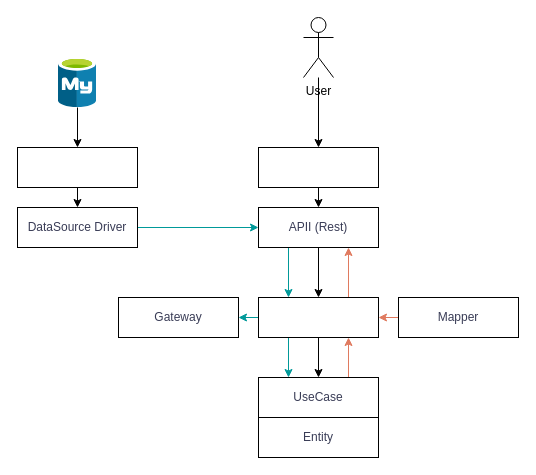
Image size: 536x475. Some labels were removed from this diagram. The shapes that lost their labels are listed below. From the top down, each one's centre as x and y in pixels, then its label:
At point 77,167: "DB ACCESS".
At point 318,167: "Frontend".
At point 318,317: "Controller".
